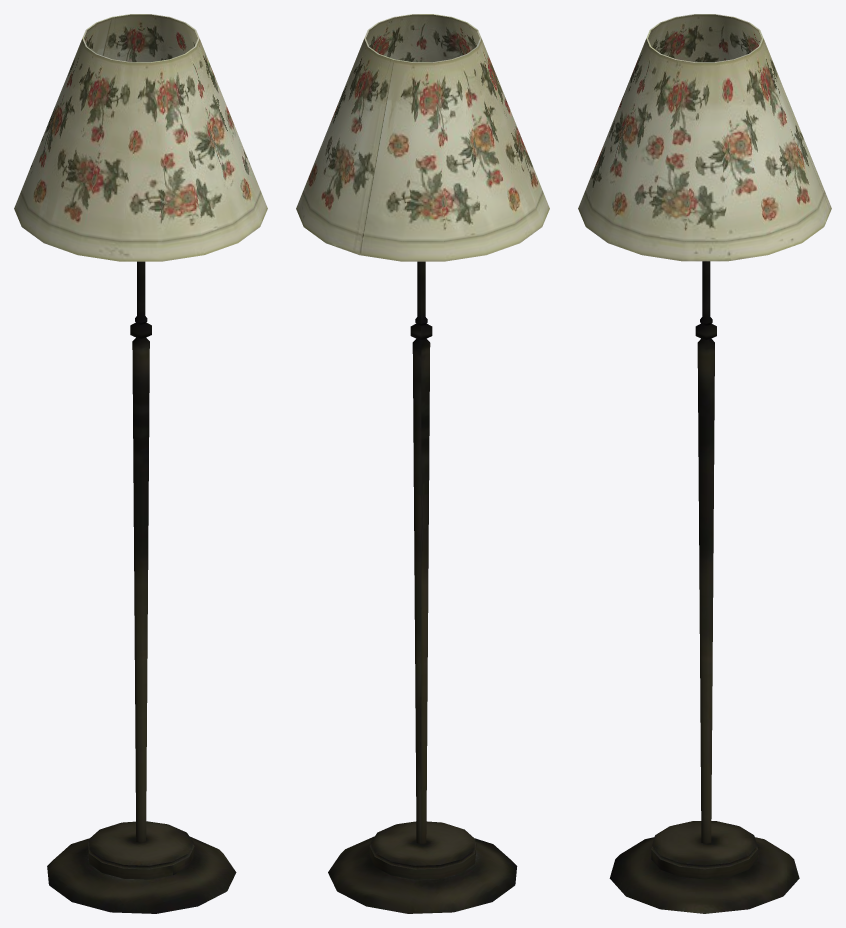
File: si-stehlampe.glb
3 renders of one model, left to right at view 1: azimuth 30°, elevation 25°; view 2: azimuth 150°, elevation 25°; view 3: azimuth 270°, elevation 25°, orthographic.
Visible parts, largest first — view 1: si-stehlampe; view 2: si-stehlampe; view 3: si-stehlampe.
Boxes of the visible parts, bbox=[...] form: si-stehlampe: bbox=[14, 14, 267, 913]; si-stehlampe: bbox=[296, 14, 549, 913]; si-stehlampe: bbox=[578, 14, 831, 913].
Bounding box in the file's own units: 0.3453 × 1.27 × 0.3506.
Materials: 1 (1 with a texture image).
